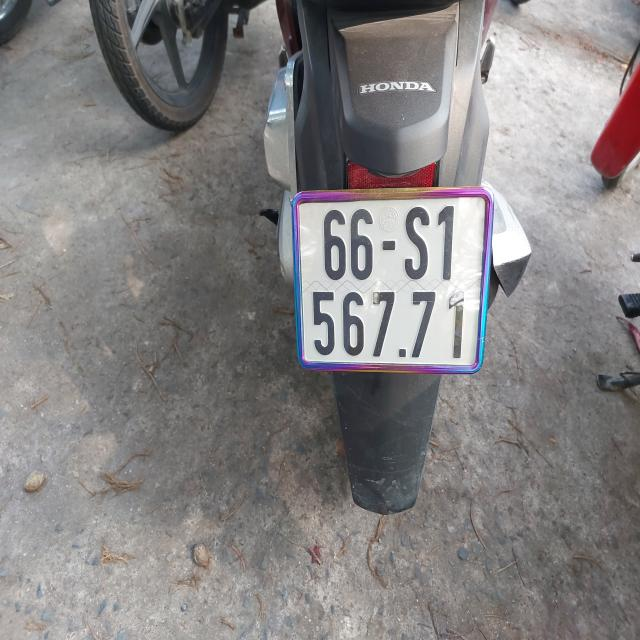1: (436, 204, 456, 282), (448, 288, 467, 357)
5: (311, 283, 337, 356)
6: (350, 209, 376, 282), (340, 289, 364, 358), (324, 209, 346, 281)
7: (408, 286, 434, 359), (373, 287, 396, 364)
S: (402, 205, 428, 280)
